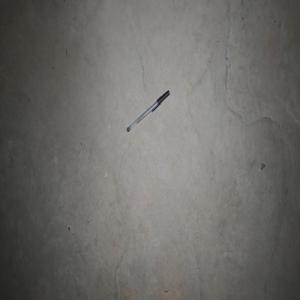Pen: (126, 89, 169, 132)
